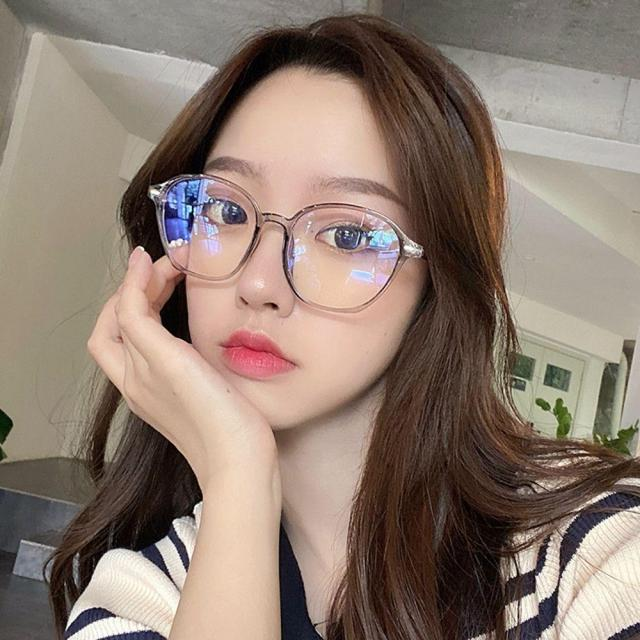Glasses: (145, 171, 424, 315)
